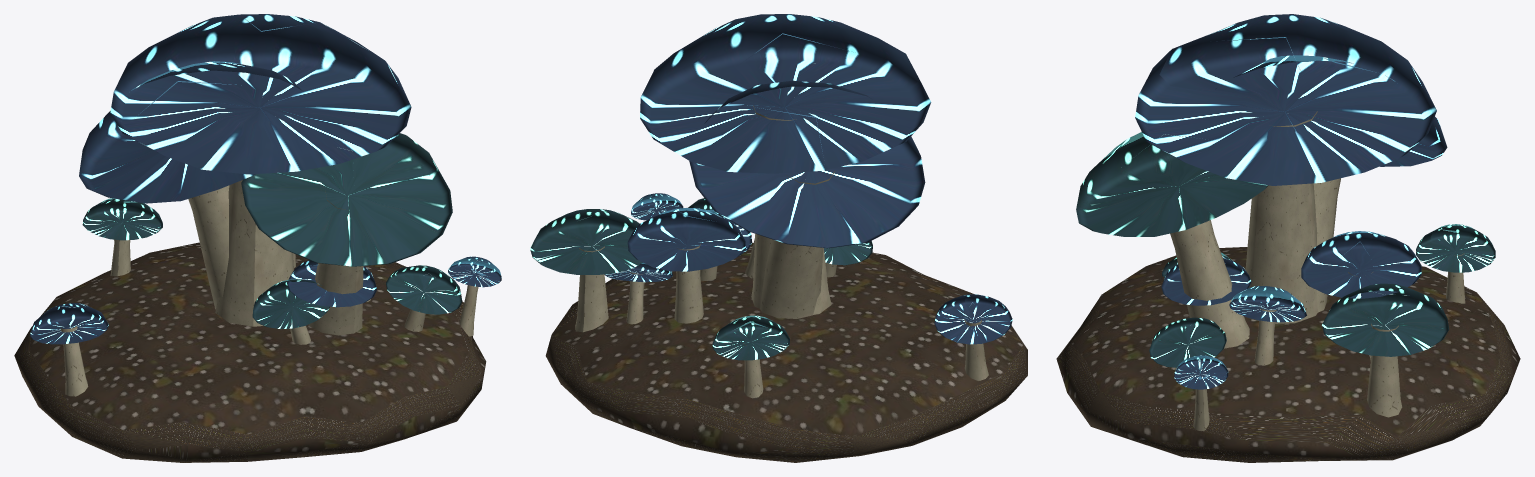
File: glow_mushroom_cluster.glb
The picture shows the model from 3 angles, left to right: view 1: azimuth 30°, elevation 25°; view 2: azimuth 150°, elevation 25°; view 3: azimuth 270°, elevation 25°; orthographic projection. The views are drawn at different scales.
Parts seen in each view (by area): view 1: glow_mushroom_cluster__soil, glow_mushroom_cluster__glowcap, glow_mushroom_cluster__glowcap_teal, glow_mushroom_cluster__bone; view 2: glow_mushroom_cluster__glowcap, glow_mushroom_cluster__soil, glow_mushroom_cluster__bone, glow_mushroom_cluster__glowcap_teal; view 3: glow_mushroom_cluster__soil, glow_mushroom_cluster__glowcap, glow_mushroom_cluster__glowcap_teal, glow_mushroom_cluster__bone.
Boxes of the visible parts, left/top/right/bottom form: glow_mushroom_cluster__soil: left=14, top=242, right=486, bottom=462; glow_mushroom_cluster__glowcap: left=29, top=14, right=501, bottom=344; glow_mushroom_cluster__glowcap_teal: left=82, top=133, right=462, bottom=329; glow_mushroom_cluster__bone: left=60, top=180, right=478, bottom=396; glow_mushroom_cluster__glowcap: left=604, top=14, right=1012, bottom=344; glow_mushroom_cluster__soil: left=545, top=243, right=1027, bottom=462; glow_mushroom_cluster__bone: left=575, top=105, right=988, bottom=398; glow_mushroom_cluster__glowcap_teal: left=530, top=63, right=872, bottom=360; glow_mushroom_cluster__soil: left=1056, top=247, right=1520, bottom=462; glow_mushroom_cluster__glowcap: left=1135, top=14, right=1447, bottom=389; glow_mushroom_cluster__glowcap_teal: left=1076, top=132, right=1495, bottom=367; glow_mushroom_cluster__bone: left=1170, top=111, right=1465, bottom=430.
Size of the model in its own units: 1.28 by 0.9837 by 1.2.
4 materials, 4 textured.
